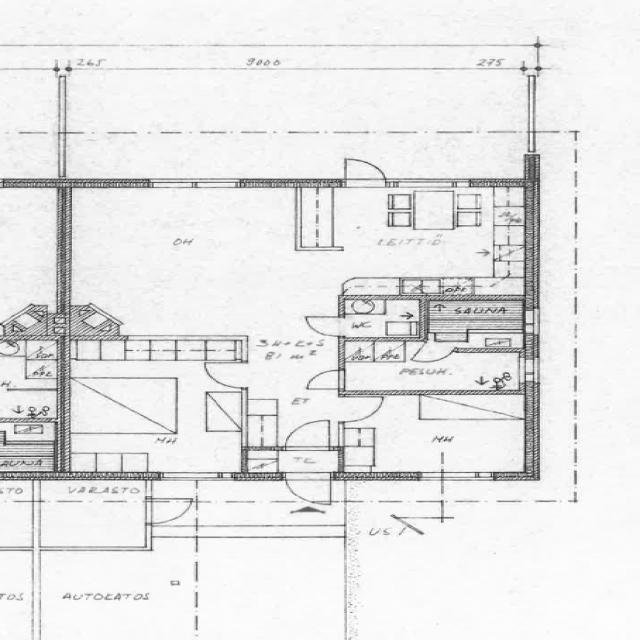door: (282, 472, 335, 506), (144, 494, 197, 527), (283, 418, 334, 451), (339, 156, 389, 189), (201, 359, 251, 391), (340, 394, 388, 424), (303, 368, 346, 393), (304, 314, 346, 337)
window: (145, 177, 243, 192), (51, 73, 75, 132), (522, 73, 543, 133), (387, 177, 471, 190), (435, 470, 498, 484), (517, 355, 540, 387), (522, 306, 543, 338)
zone: (71, 184, 312, 345), (341, 184, 523, 296), (65, 352, 211, 466), (345, 401, 529, 477), (340, 348, 528, 394), (0, 188, 63, 307), (426, 296, 529, 352), (0, 337, 61, 421), (341, 299, 425, 340), (0, 419, 60, 474), (294, 186, 336, 250), (267, 448, 344, 476)
